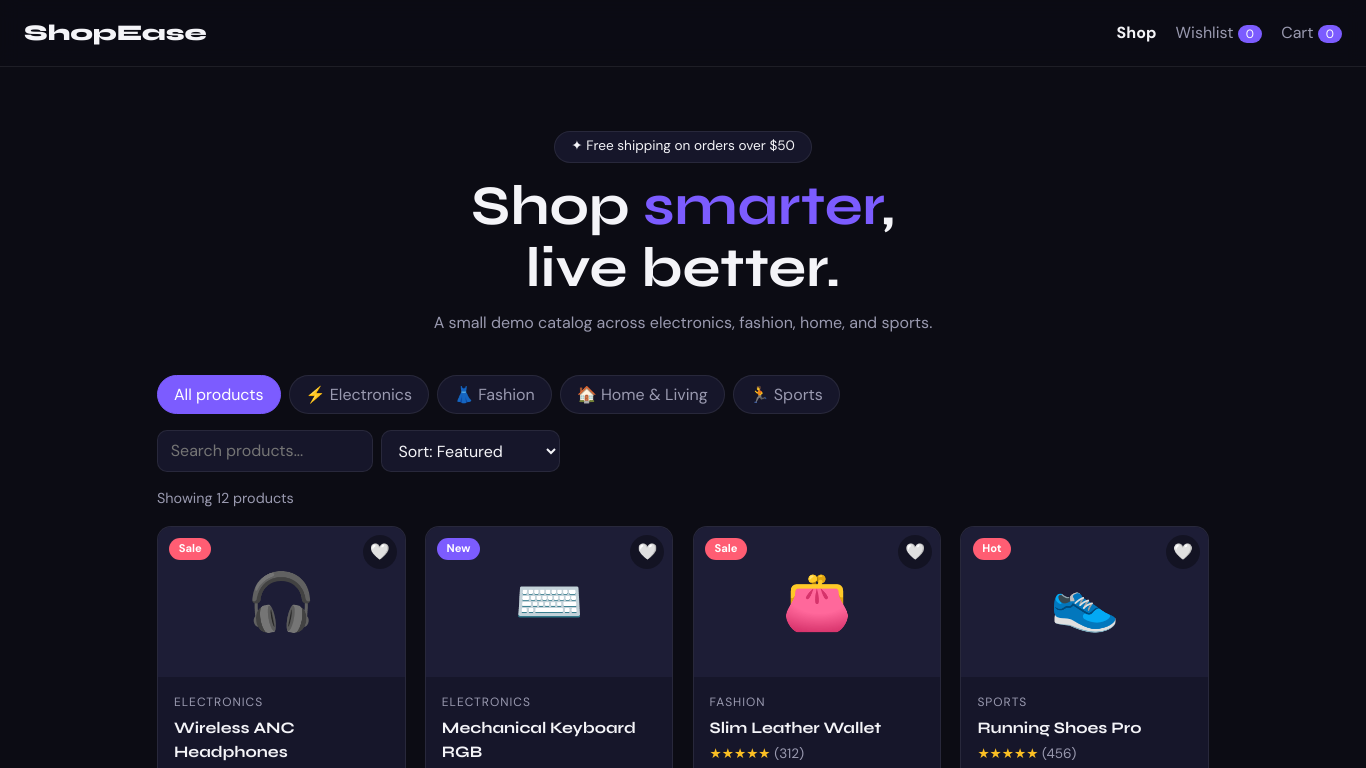
Test: ShopEase app › filters products with the search box
Expected: the text "Showing 12 products" is shown, 157,489 -> 294,507
Type "lamp" into the search field labelled "Search products" at (265, 451), box 157,430 -> 373,472
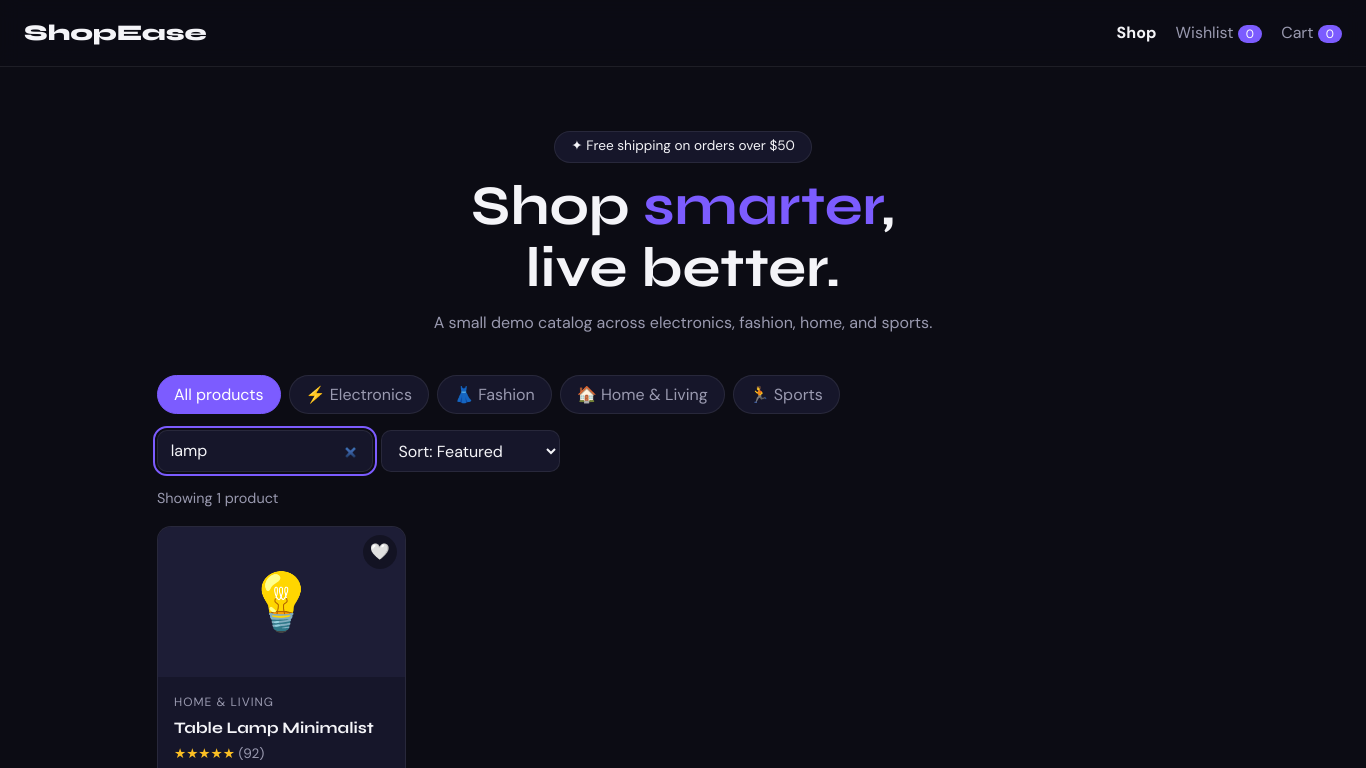
Expected: the link "Table Lamp Minimalist" is shown, 174,718 -> 374,737
Expected: the text "Showing 1 product" is shown, 157,489 -> 278,507
